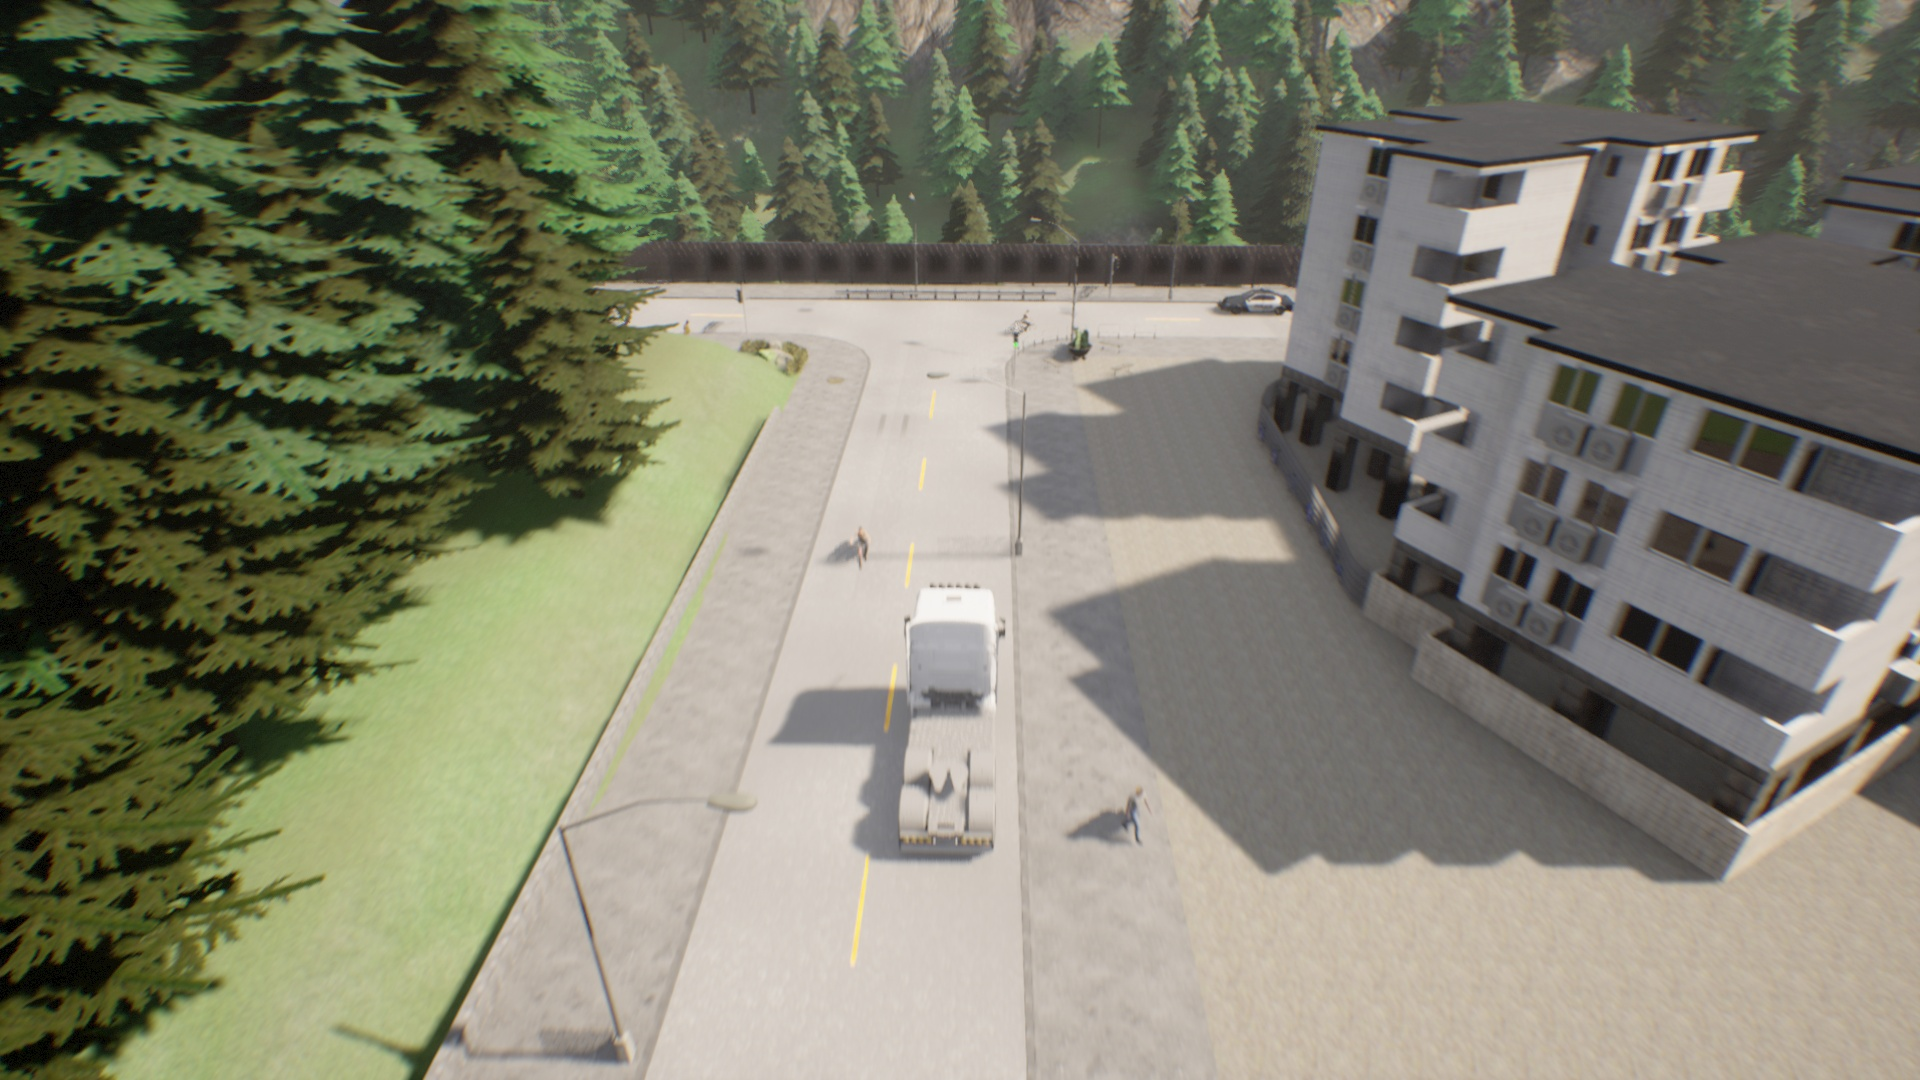Bicycle: (895, 576, 1004, 865), (837, 521, 877, 570), (1017, 309, 1031, 332)
Car: (1208, 278, 1294, 320)
